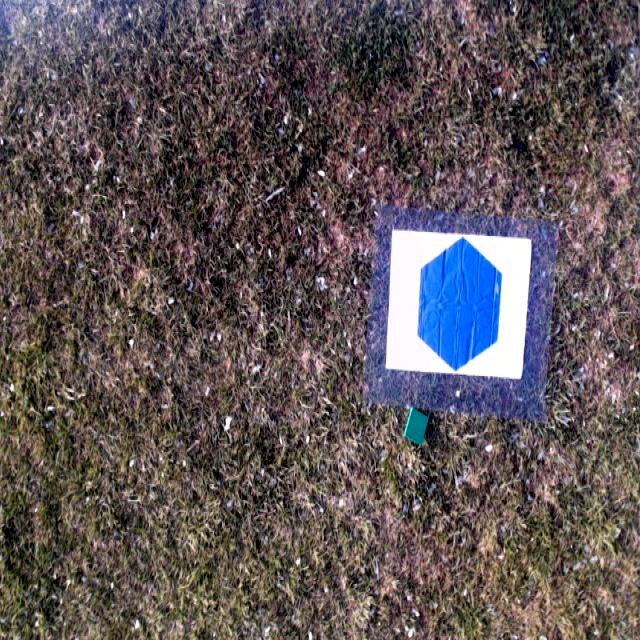blue_hexagon: (416, 232, 503, 377)
